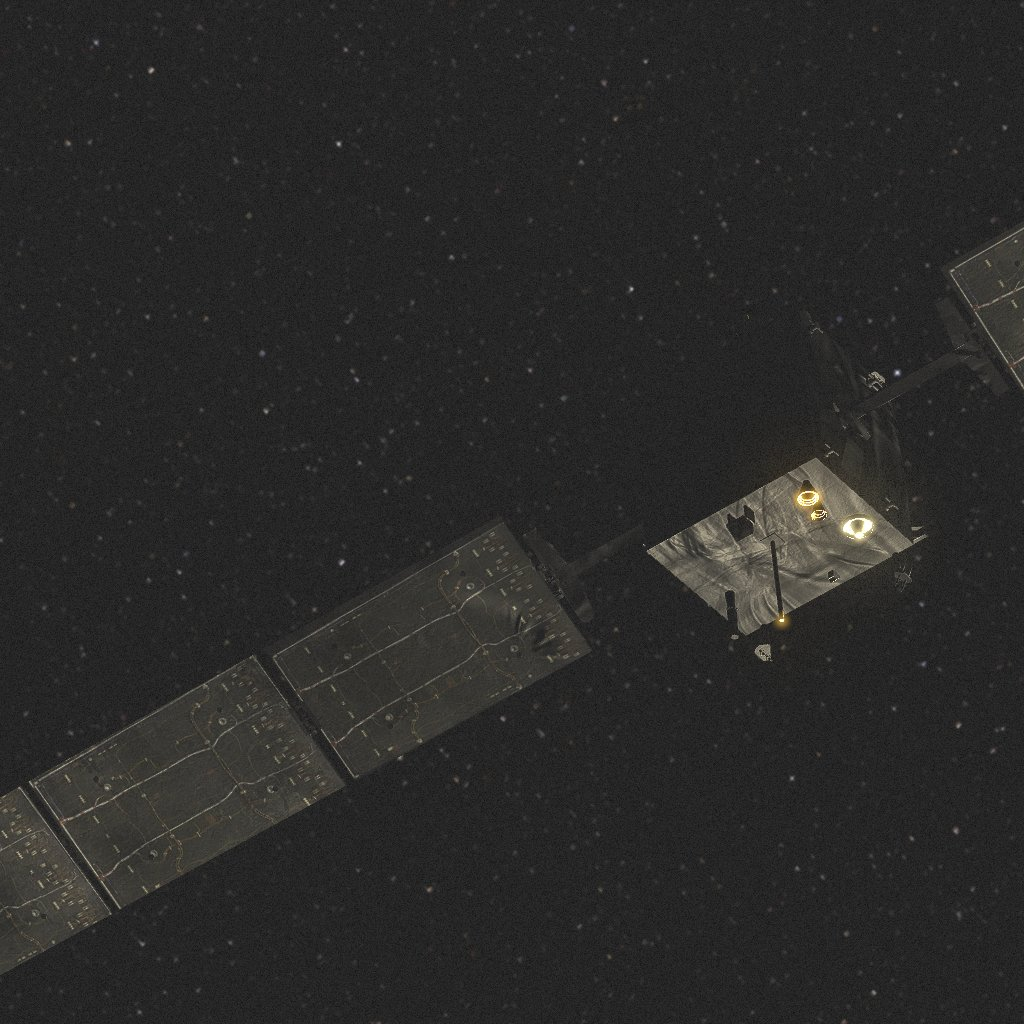smart_1: (0, 220, 1024, 975)
